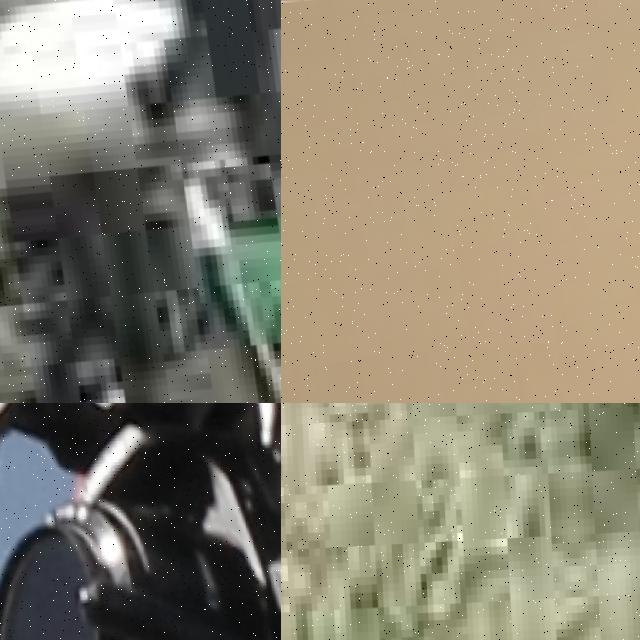drone: (281, 0, 640, 403), (0, 0, 281, 403), (0, 403, 281, 640)
